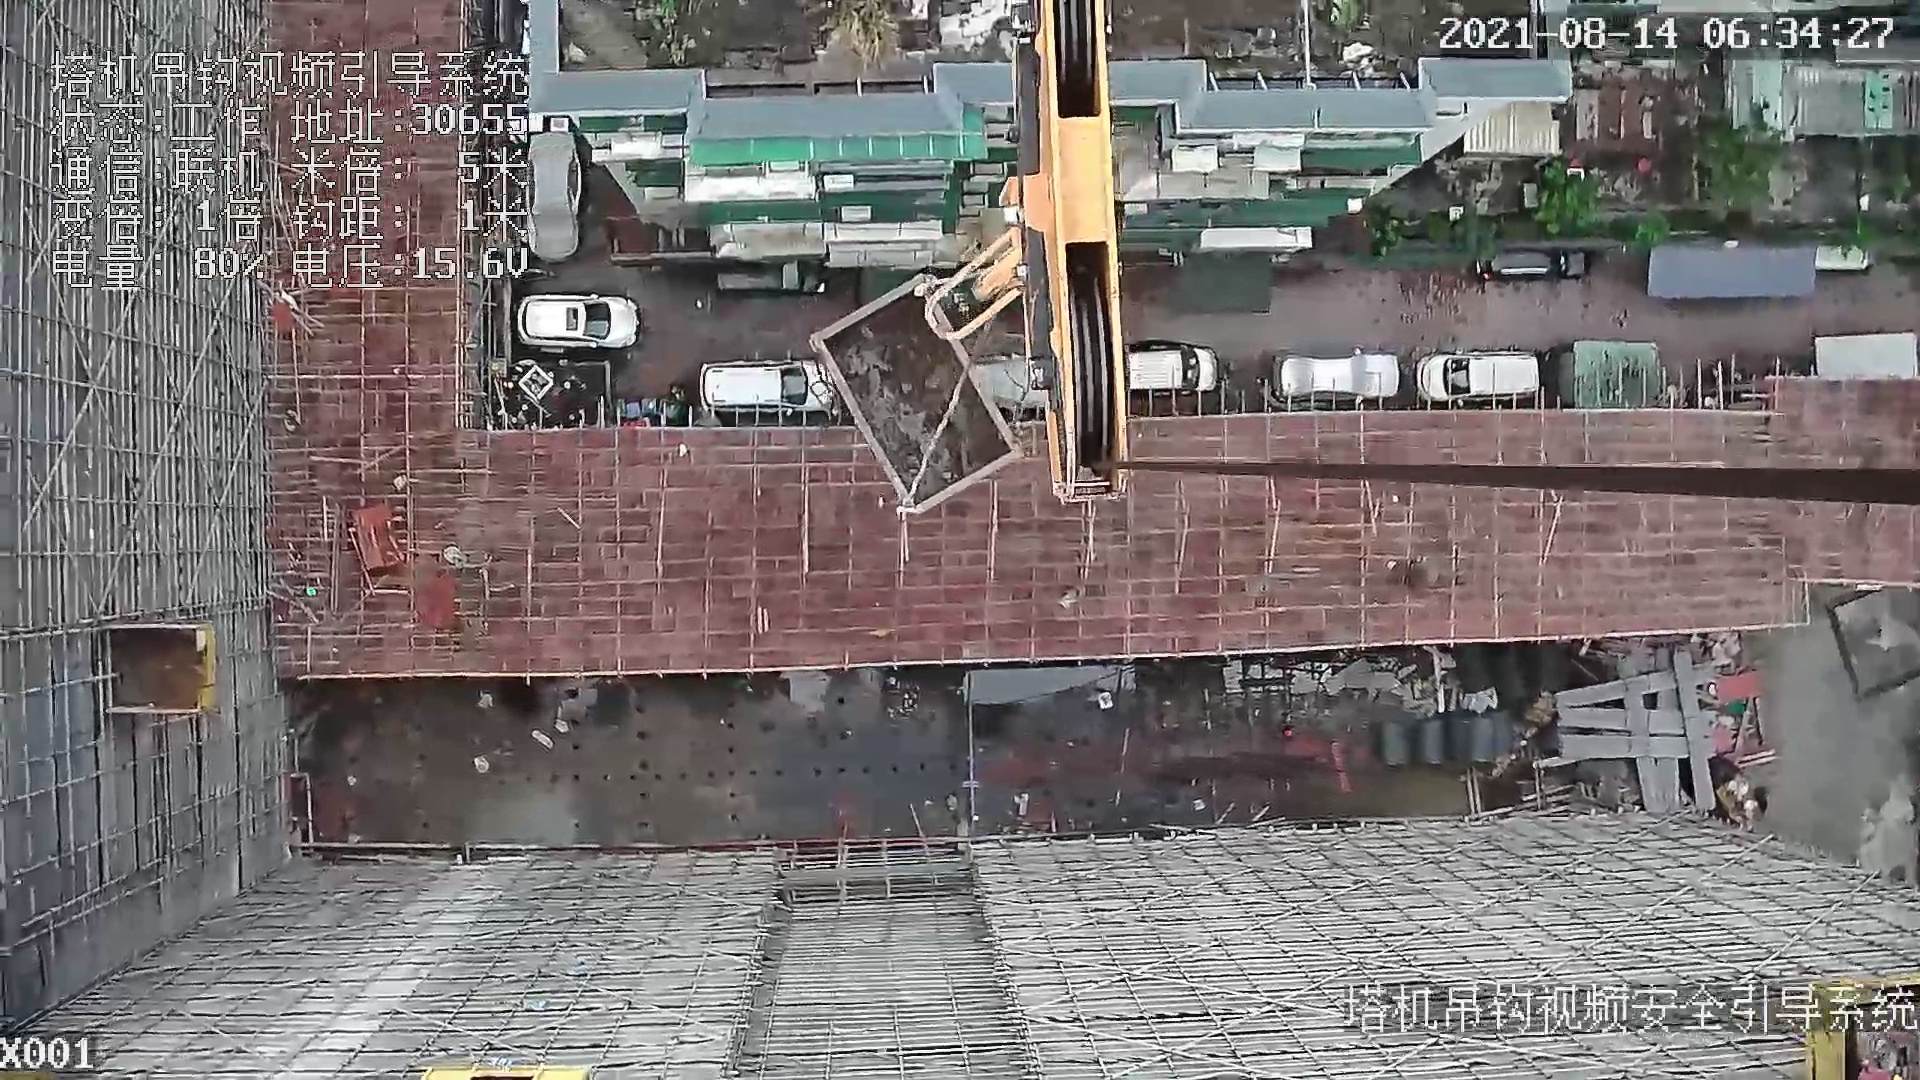hook: (919, 1, 1129, 496)
hopper: (814, 274, 1029, 527)
